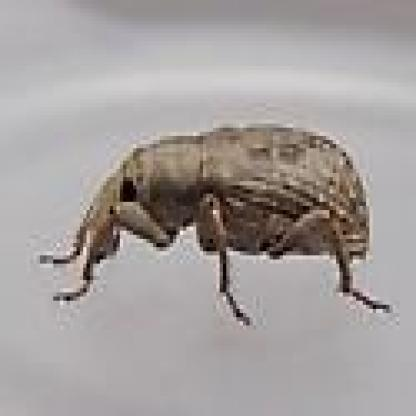rice-bug: (80, 120, 374, 304)
